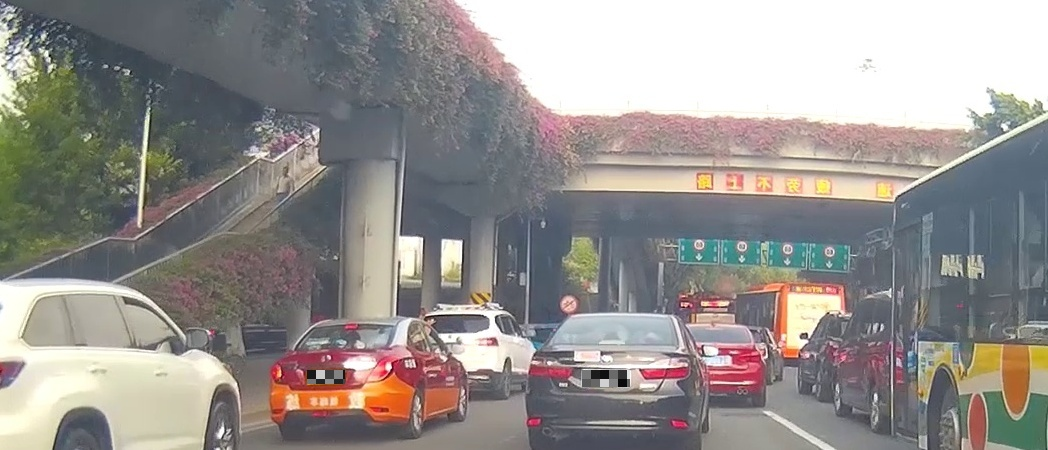L_light: (528, 357, 573, 377), (271, 362, 289, 385)
R_light: (639, 358, 690, 379), (365, 356, 402, 382)
T_light: (597, 338, 626, 345), (344, 324, 359, 329)
day-brake: (270, 316, 404, 439)
day-no: (526, 312, 702, 450)
plate_1: (307, 370, 345, 384)
plate_2: (582, 370, 630, 387)
